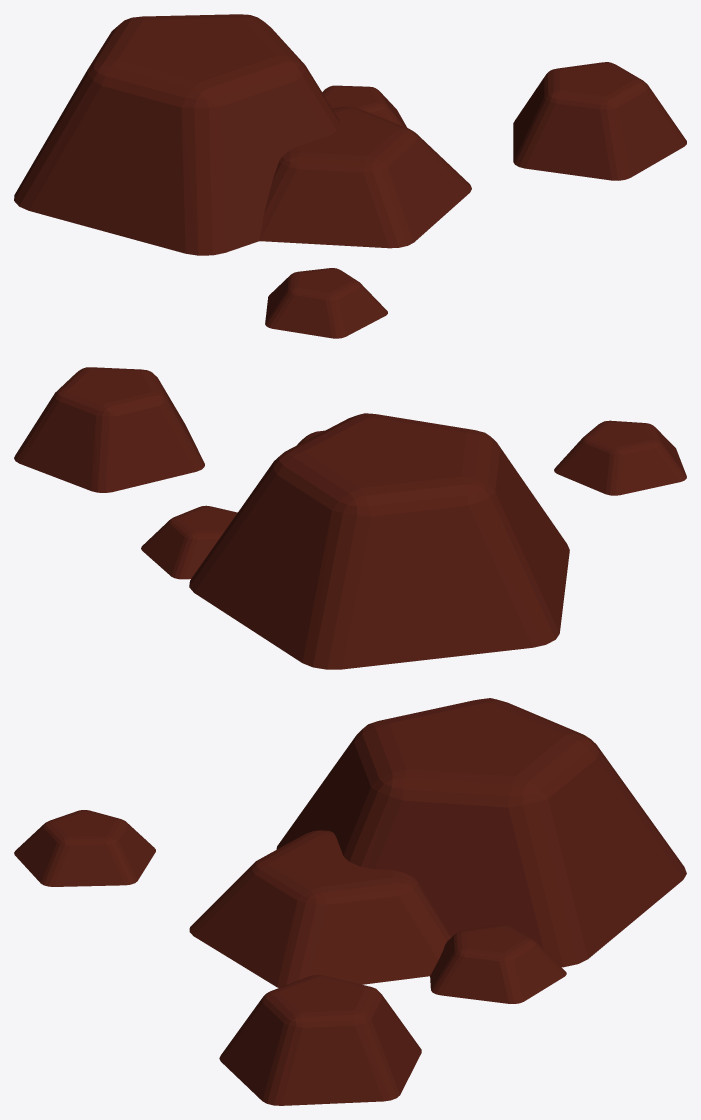
File: rocksA_desert.obj
The picture shows the model from 3 angles, top to bottom: view 1: azimuth 30°, elevation 25°; view 2: azimuth 150°, elevation 25°; view 3: azimuth 270°, elevation 25°; orthographic projection. The views are drawn at different scales.
Parts seen in each view (by area): view 1: rocksA_desert_Cube.726; view 2: rocksA_desert_Cube.726; view 3: rocksA_desert_Cube.726.
Boxes of the visible parts, x1,y1,x2,y2 form: rocksA_desert_Cube.726: (14,14,686,338); rocksA_desert_Cube.726: (14,367,686,669); rocksA_desert_Cube.726: (14,698,686,1105).
Bounding box in the file's own units: 1.63 × 0.35 × 1.49.
